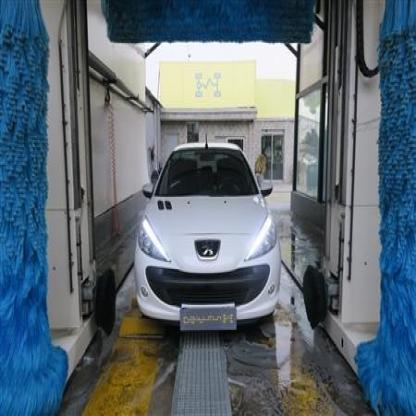Car: (138, 136, 280, 338)
